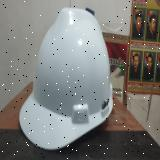Helmet: (19, 8, 113, 150)
